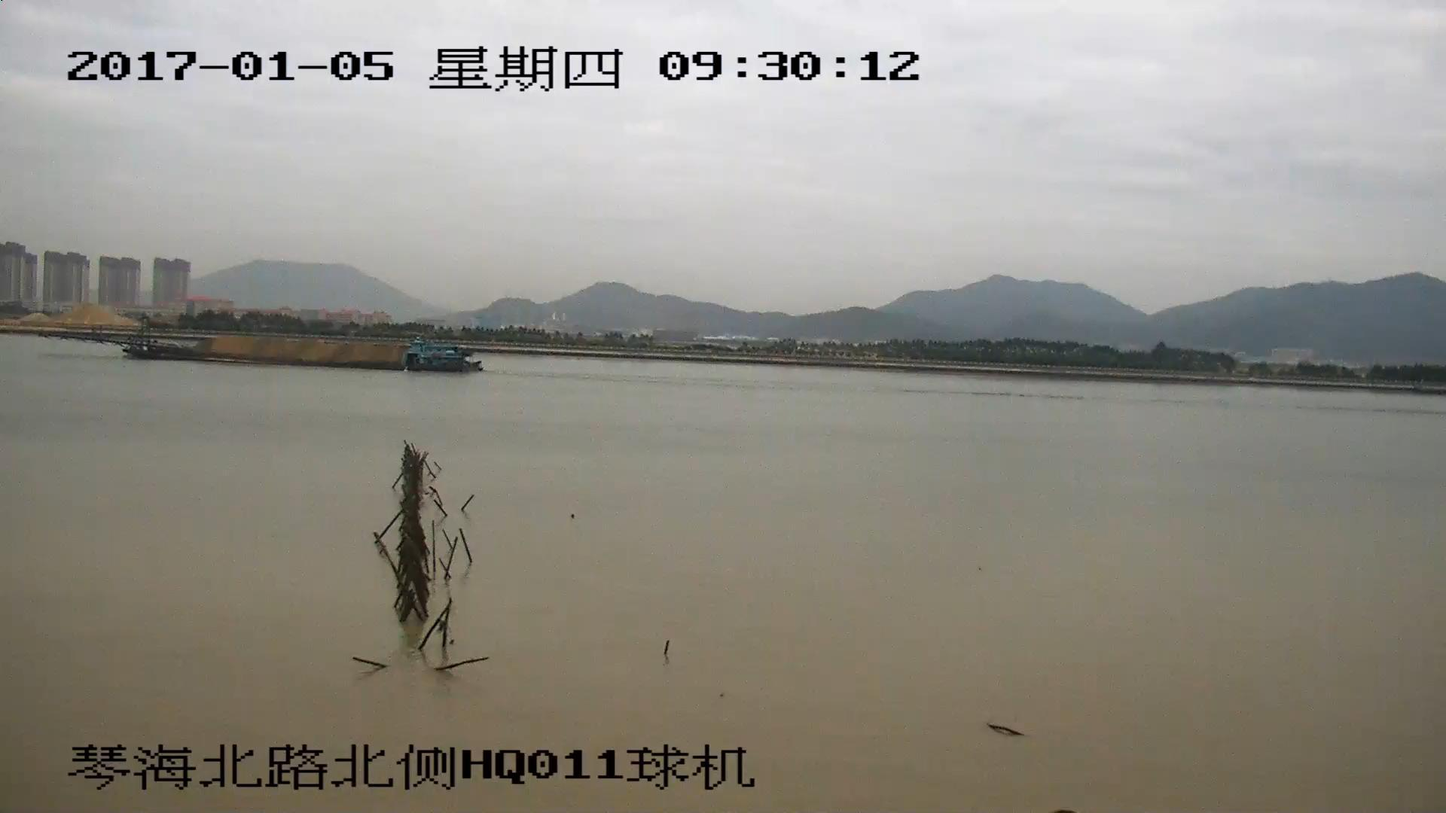ore carrier: (52, 323, 472, 370)
